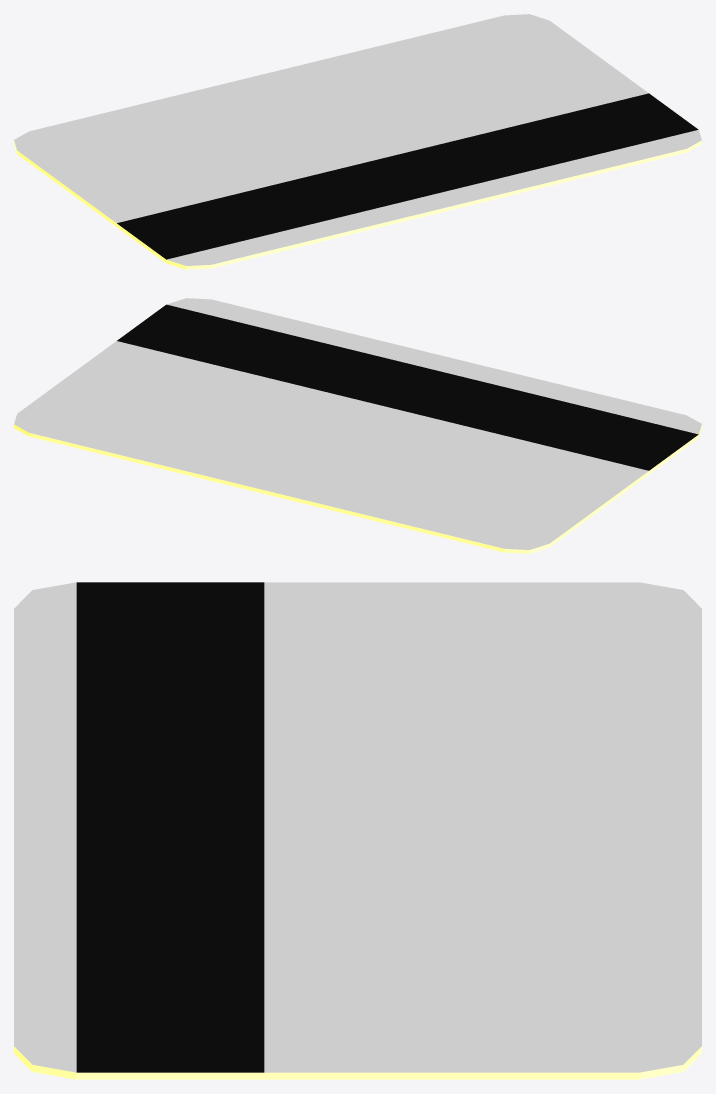
The model's file is MasterCardTilMLSbane.glb.
3 renders of one model, top to bottom at view 1: azimuth 30°, elevation 25°; view 2: azimuth 150°, elevation 25°; view 3: azimuth 270°, elevation 25°, orthographic. The views are drawn at different scales.
Parts seen in each view (by area): view 1: Plane; view 2: Plane; view 3: Plane.
Boxes of the visible parts, <box> form: Plane: <box>14,14,701,269</box>; Plane: <box>14,298,701,553</box>; Plane: <box>14,582,701,1079</box>.
Size of the model in its own units: 3.37 by 0.0228 by 2.
3 materials, 1 textured.
